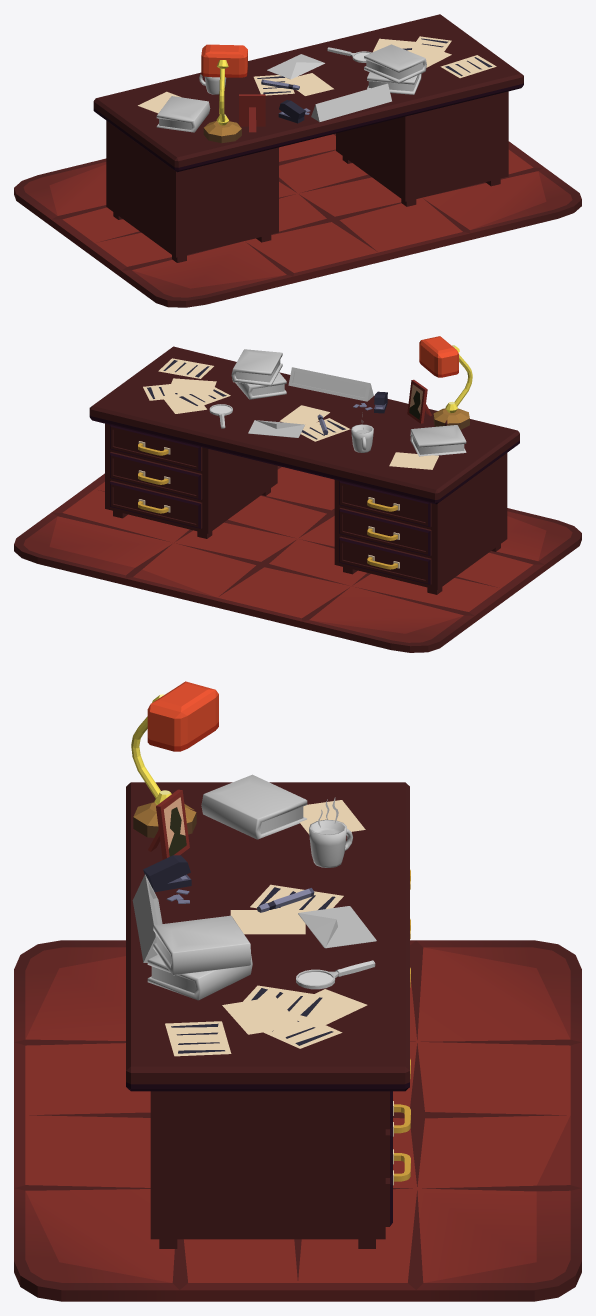
File: ProtoDesk.fbx
The picture shows the model from 3 angles, top to bottom: view 1: azimuth 30°, elevation 25°; view 2: azimuth 150°, elevation 25°; view 3: azimuth 270°, elevation 25°; orthographic projection. The views are drawn at different scales.
Parts seen in each view (by area): view 1: Desk, Cube.009, DeskLamp, Cube.006, Name Sign, Cube.007, Cube.008, Envelope, Cube.005, Cube; view 2: Desk, Cube.009, DeskLamp, Name Sign, Cube.006, Cube.007, Envelope, Cube.008, Cube.005, Coffee Cup; view 3: Cube.009, Desk, DeskLamp, Cube.006, Cube.007, Cube.005, Envelope, Cube.008, Coffee Cup, Name Sign, Cube, Magnifying Glass.001.
Boxes of the visible parts, x1,y1,x2,y2 form: Desk: [93, 14, 523, 262]; Cube.009: [14, 133, 581, 307]; DeskLamp: [201, 44, 247, 143]; Cube.006: [364, 44, 426, 83]; Name Sign: [311, 83, 391, 121]; Cube.007: [156, 96, 210, 132]; Cube.008: [239, 94, 265, 132]; Envelope: [267, 54, 324, 79]; Cube.005: [367, 72, 421, 94]; Cube: [278, 100, 305, 123]; Desk: [89, 346, 519, 594]; Cube.009: [14, 466, 581, 652]; DeskLamp: [419, 336, 472, 429]; Name Sign: [288, 367, 373, 401]; Cube.006: [231, 349, 282, 386]; Cube.007: [410, 425, 466, 456]; Envelope: [248, 420, 304, 437]; Cube.008: [407, 379, 431, 423]; Cube.005: [235, 372, 286, 399]; Coffee Cup: [351, 412, 373, 452]; Cube.009: [14, 940, 581, 1301]; Desk: [126, 782, 410, 1248]; DeskLamp: [131, 681, 218, 837]; Cube.006: [153, 915, 250, 975]; Cube.007: [201, 774, 307, 839]; Cube.005: [147, 954, 252, 1000]; Envelope: [298, 906, 376, 948]; Cube.008: [148, 789, 189, 859]; Coffee Cup: [309, 797, 352, 867]; Name Sign: [132, 874, 162, 962]; Cube: [143, 855, 191, 892]; Magnifying Glass.001: [296, 960, 375, 989].
Size of the model in its own units: 426 by 195 by 293.
